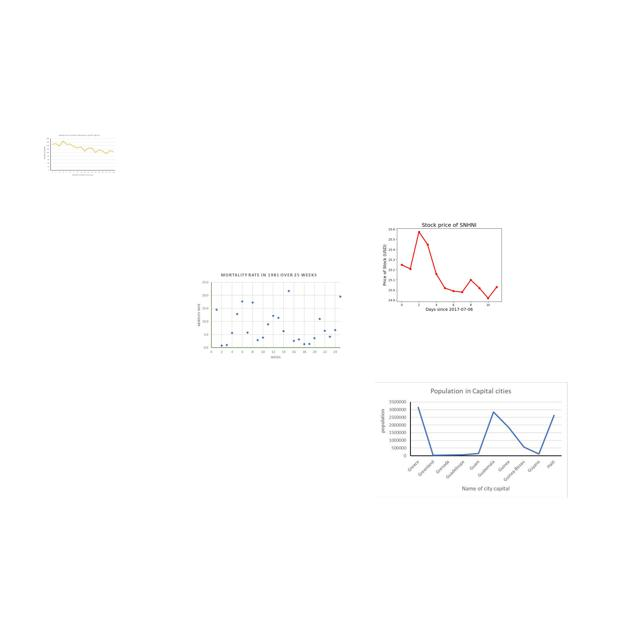Graph: (375, 382, 568, 498), (380, 214, 515, 315), (196, 272, 344, 361), (42, 133, 117, 178)
